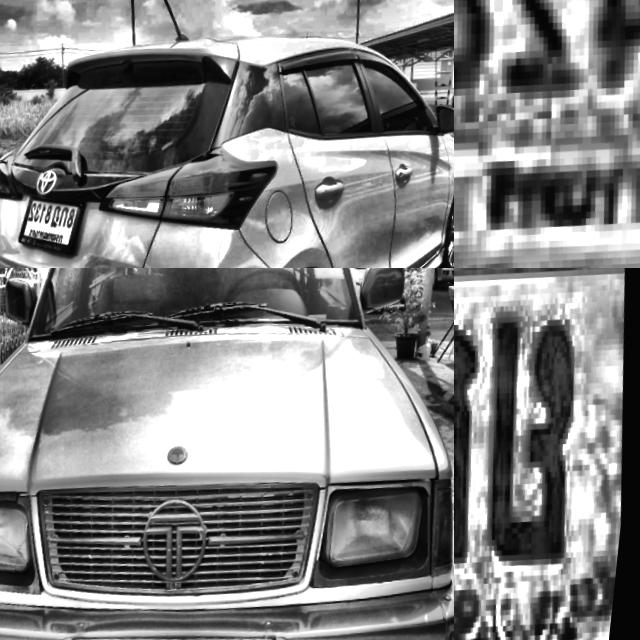license-plate: (454, 268, 640, 640), (454, 0, 640, 268), (10, 181, 100, 268)
